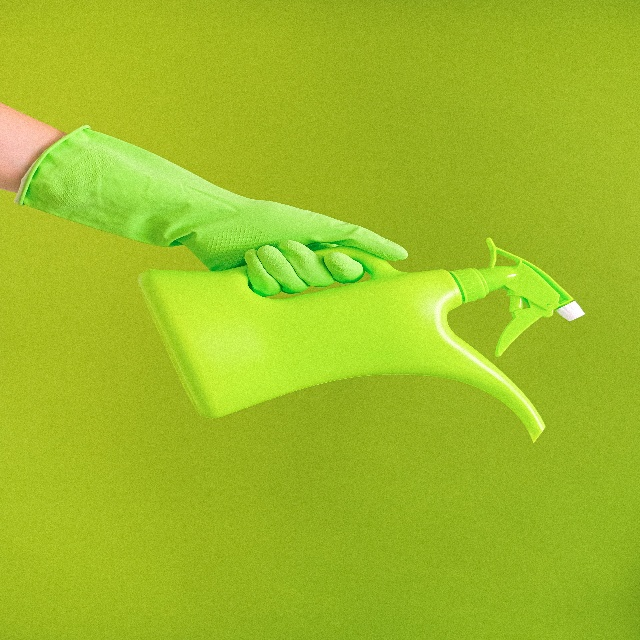Guantes: (14, 124, 410, 298)
